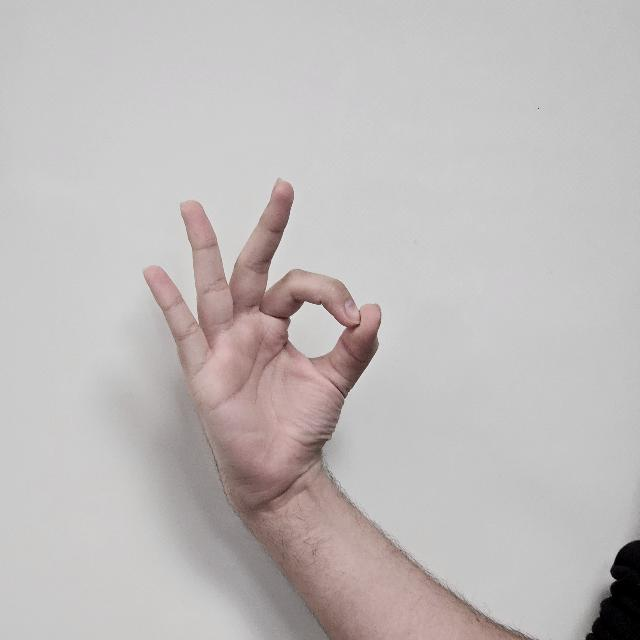Bolinha: (136, 175, 387, 543)
